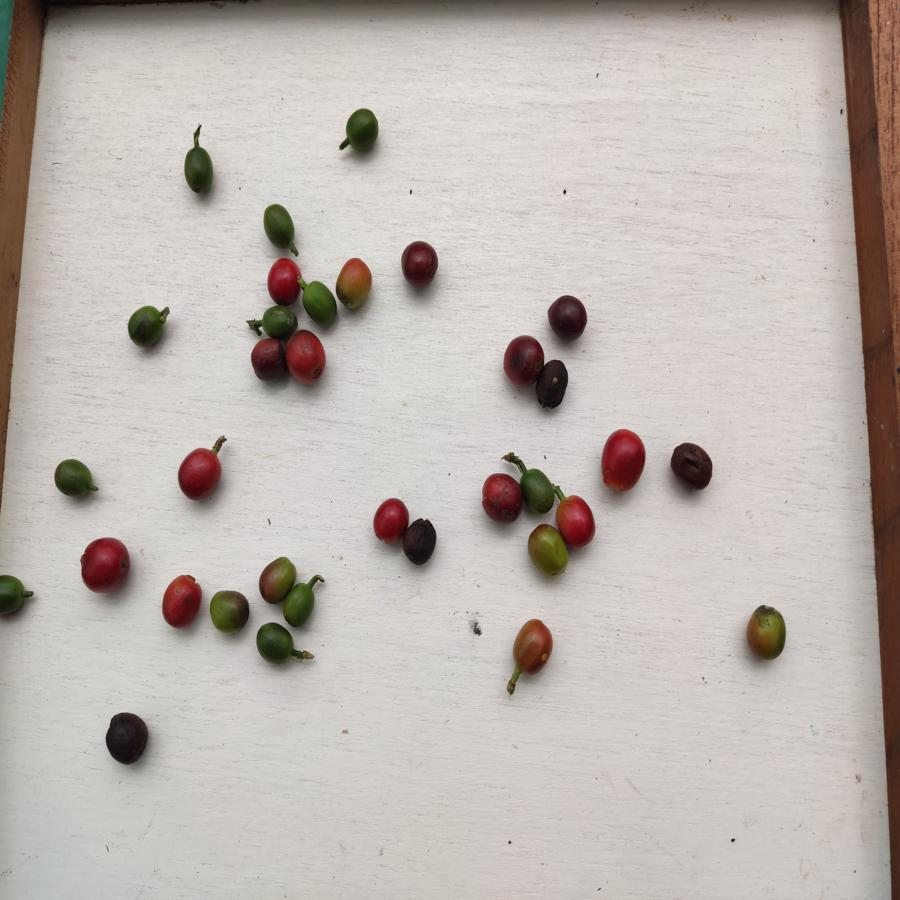Inmaduro: (179, 146, 219, 197), (343, 107, 385, 154), (254, 619, 295, 666), (299, 279, 339, 326), (281, 581, 321, 628), (53, 454, 95, 498), (520, 467, 556, 518), (127, 304, 165, 351), (262, 201, 296, 250), (257, 305, 299, 338), (1, 573, 27, 623)
Maduro: (601, 423, 648, 495), (81, 535, 129, 591), (177, 447, 224, 502), (475, 471, 524, 523), (161, 572, 204, 629), (557, 493, 600, 549), (287, 329, 326, 383), (262, 257, 301, 305), (373, 494, 407, 541)
Pinton: (507, 617, 561, 675), (744, 604, 793, 665), (333, 251, 376, 309), (526, 525, 569, 582), (209, 587, 252, 635)
Sobremaduro: (103, 710, 151, 769), (546, 291, 593, 346), (402, 236, 444, 294), (670, 437, 713, 491), (502, 334, 544, 389), (536, 359, 573, 409), (249, 339, 287, 386), (403, 518, 438, 564)
